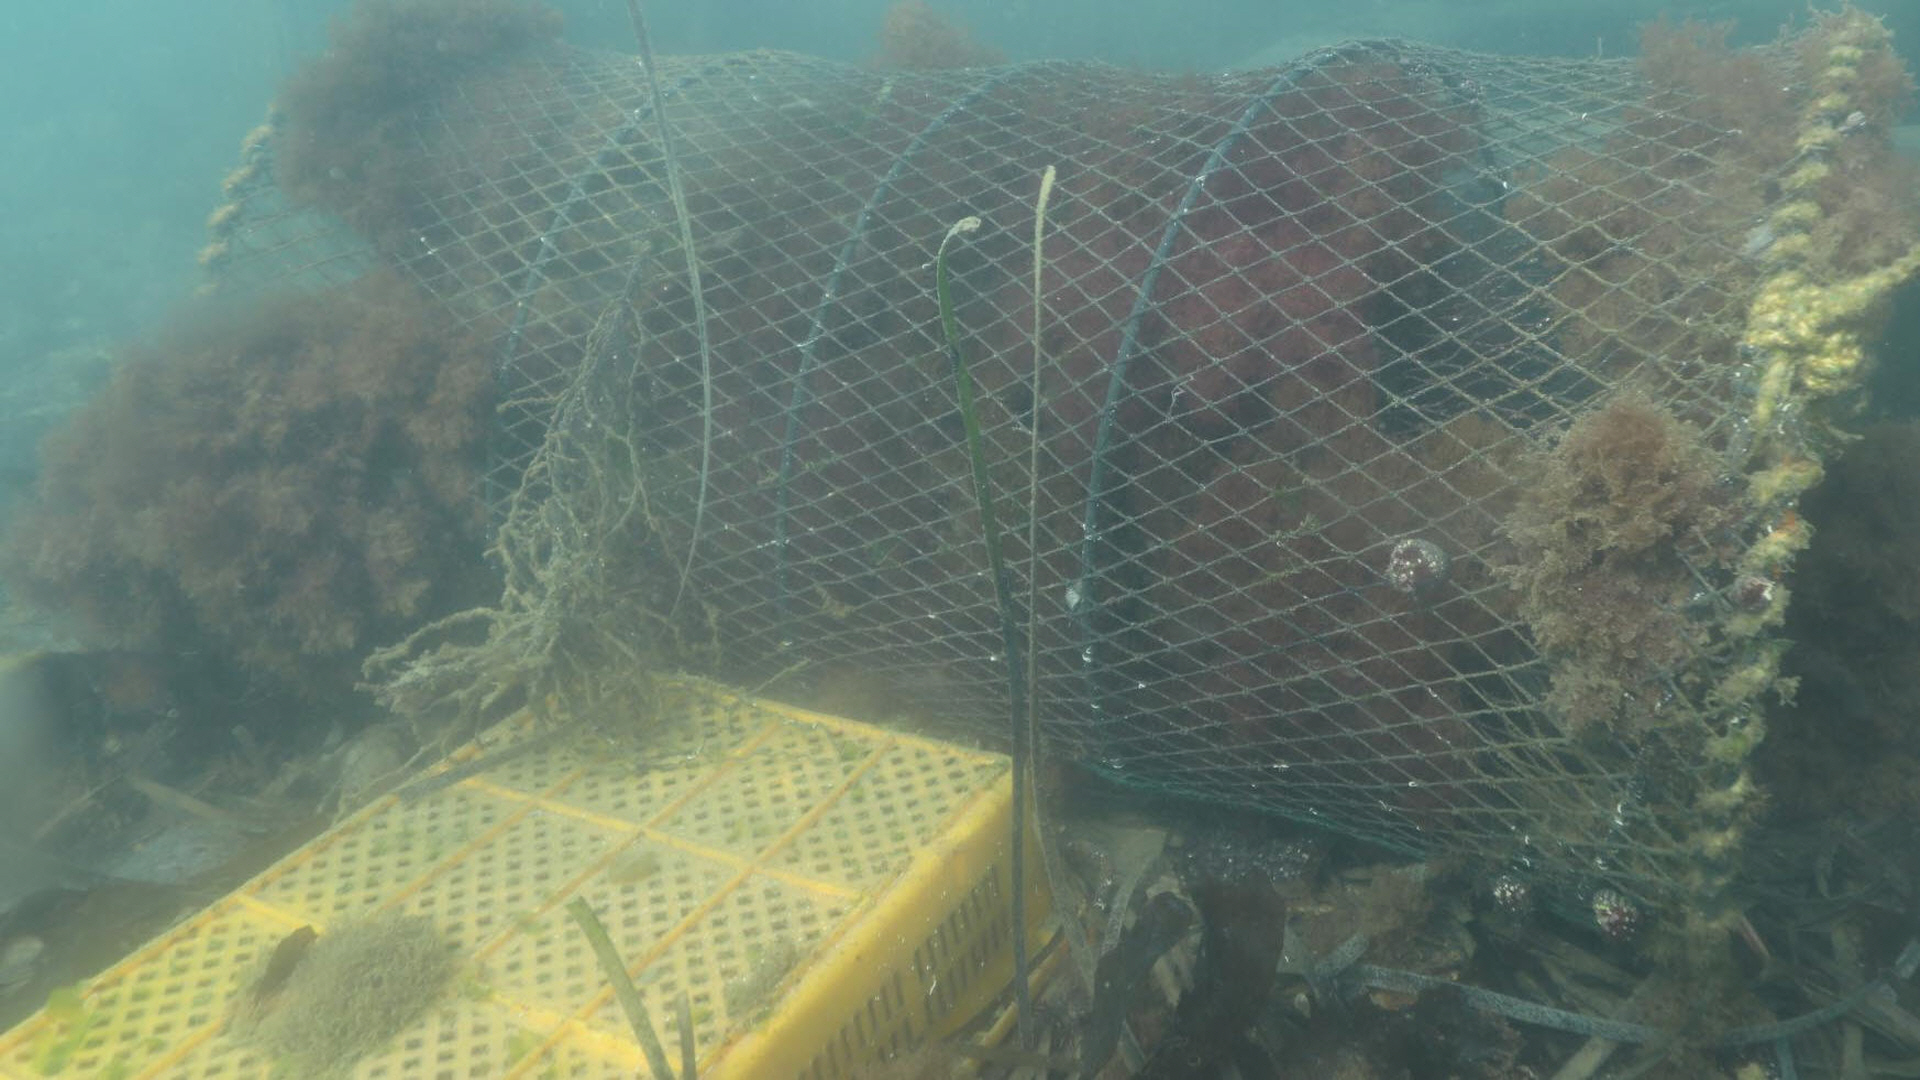bundle of ropes: (1793, 244, 1920, 396)
spring fish trap: (190, 15, 1920, 994)
